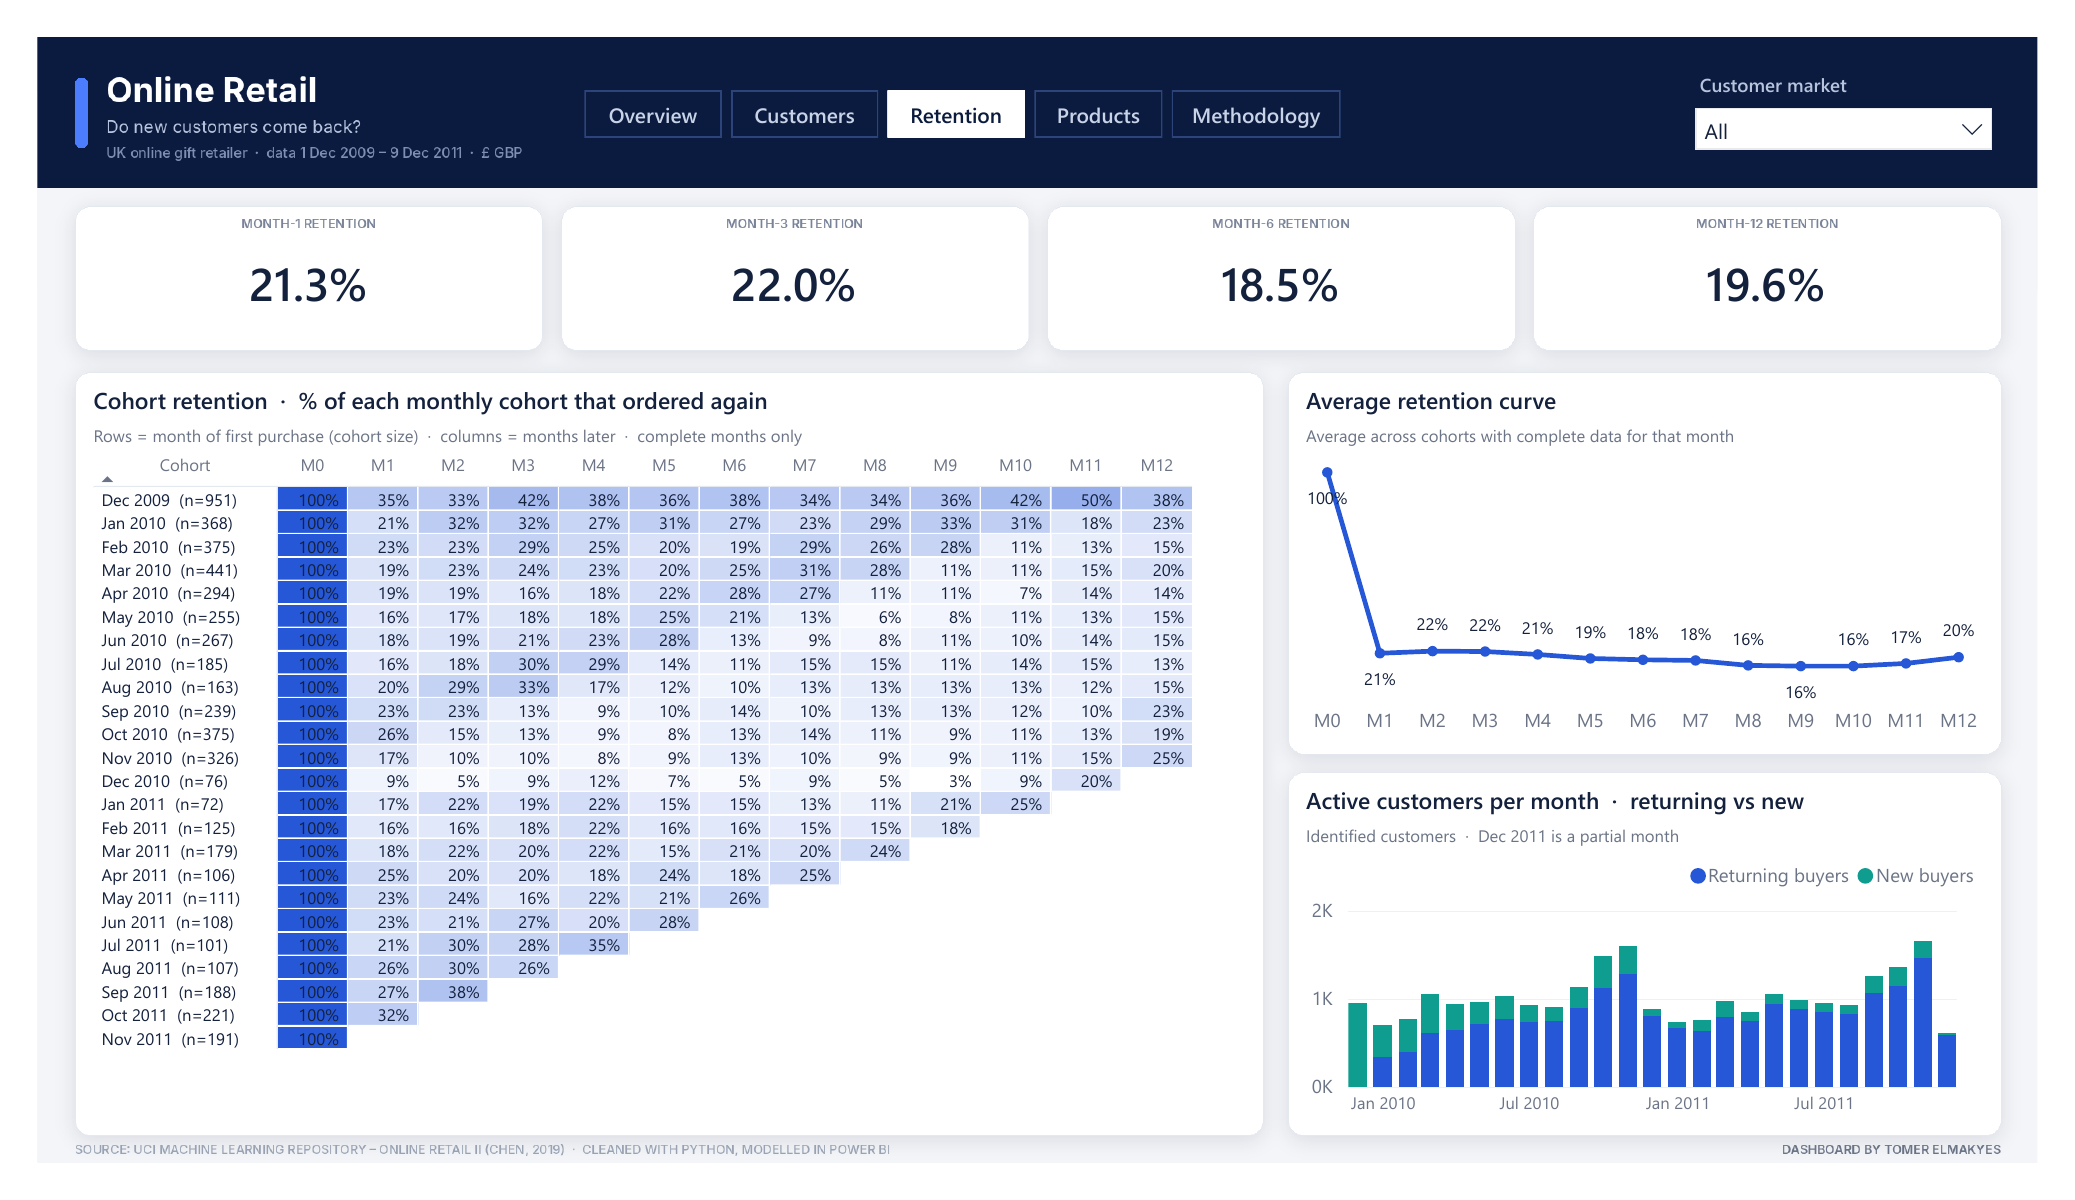

The dashboard page shown, as its layout file describes it:
{"tool":"powerbi","page":{"name":"Retention","canvas":[1280,720],"ordinal":2},"visuals":[{"type":"actionButton","box":[350,34,88,30],"z":3600},{"type":"actionButton","box":[444,34,94,30],"z":3700},{"type":"actionButton","box":[544,34,88,30],"z":3800},{"type":"actionButton","box":[638,34,82,30],"z":3900},{"type":"actionButton","box":[726,34,108,30],"z":4000},{"type":"slicer","fields":{"Values":["Customer.Market"]},"box":[1056,22,200,62],"z":4100},{"type":"card","fields":{"Values":["_Measures.Month-1 Retention"]},"box":[24,132,299,52],"z":4200},{"type":"card","fields":{"Values":["_Measures.Month-3 Retention"]},"box":[335,132,299,52],"z":4300},{"type":"card","fields":{"Values":["_Measures.Month-6 Retention"]},"box":[646,132,299,52],"z":4400},{"type":"card","fields":{"Values":["_Measures.Month-12 Retention"]},"box":[957,132,299,52],"z":4500},{"type":"pivotTable","title":"Cohort retention  ·  % of each monthly cohort that ordered again","fields":{"Rows":["Customer.Cohort"],"Columns":["Month Index.MonthLabel"],"Values":["_Measures.Retention %"]},"box":[24,214,760,488],"z":4600},{"type":"lineChart","title":"Average retention curve","fields":{"Category":["Month Index.MonthLabel"],"Y":["_Measures.Avg Retention %"]},"box":[800,214,456,244],"z":4700},{"type":"columnChart","title":"Active customers per month  ·  returning vs new","fields":{"Category":["Calendar.MonthStart"],"Y":["_Measures.Returning buyers","_Measures.New buyers"]},"box":[800,470,456,232],"z":4800}]}

Visuals, with their boxes on the page's 1280x720 design canvas (x1, y1, x2, y2). These are canvas units, not pixel positions in the 2075x1200 screenshot, which may show the page scaled, cropped or inside an application window:
actionButton: {"left": 350, "top": 34, "right": 438, "bottom": 64}
actionButton: {"left": 444, "top": 34, "right": 538, "bottom": 64}
actionButton: {"left": 544, "top": 34, "right": 632, "bottom": 64}
actionButton: {"left": 638, "top": 34, "right": 720, "bottom": 64}
actionButton: {"left": 726, "top": 34, "right": 834, "bottom": 64}
slicer - Customer.Market: {"left": 1056, "top": 22, "right": 1256, "bottom": 84}
card - _Measures.Month-1 Retention: {"left": 24, "top": 132, "right": 323, "bottom": 184}
card - _Measures.Month-3 Retention: {"left": 335, "top": 132, "right": 634, "bottom": 184}
card - _Measures.Month-6 Retention: {"left": 646, "top": 132, "right": 945, "bottom": 184}
card - _Measures.Month-12 Retention: {"left": 957, "top": 132, "right": 1256, "bottom": 184}
"Cohort retention  ·  % of each monthly cohort that ordered again" pivotTable: {"left": 24, "top": 214, "right": 784, "bottom": 702}
"Average retention curve" lineChart: {"left": 800, "top": 214, "right": 1256, "bottom": 458}
"Active customers per month  ·  returning vs new" columnChart: {"left": 800, "top": 470, "right": 1256, "bottom": 702}
